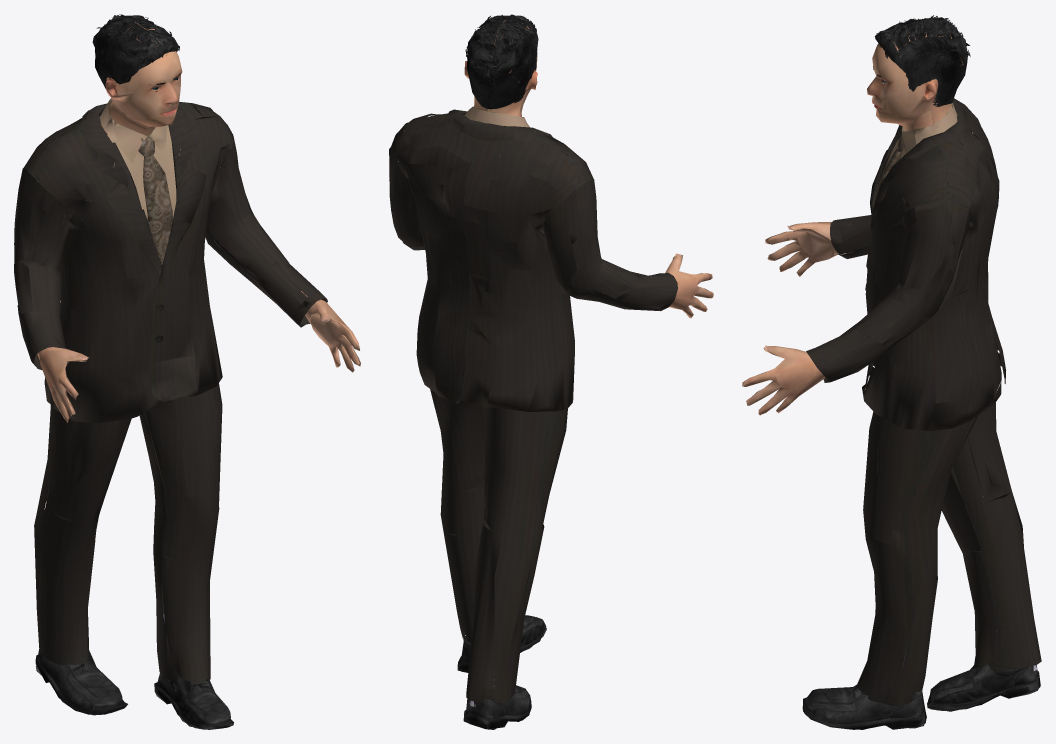
3 renders of one model, left to right at view 1: azimuth 30°, elevation 25°; view 2: azimuth 150°, elevation 25°; view 3: azimuth 270°, elevation 25°, orthographic. The views are drawn at different scales.
Parts seen in each view (by area): view 1: Modell; view 2: Modell; view 3: Modell.
Part boxes in pixels (left/top/right/bottom): Modell: left=14, top=14, right=360, bottom=729; Modell: left=389, top=14, right=713, bottom=729; Modell: left=742, top=15, right=1041, bottom=729.
Size of the model in its own units: 0.7688 by 1.8 by 0.7023.
6 materials, 6 textured.
